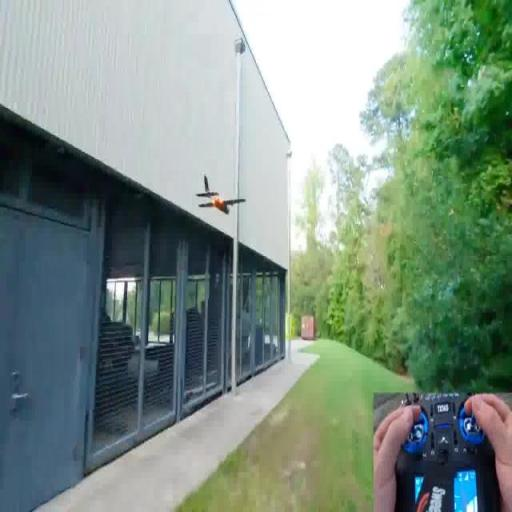uav: (192, 172, 246, 218)
